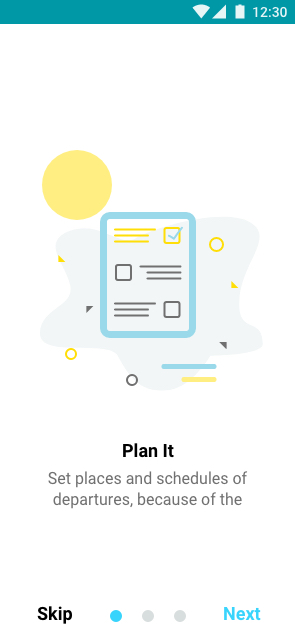Image: (40, 150, 263, 391)
PageIndicator: (110, 609, 187, 623)
Text: (48, 471, 248, 510), (123, 443, 175, 458), (37, 606, 73, 625), (224, 607, 261, 621)
UpperTaskBar: (1, 1, 296, 25)
